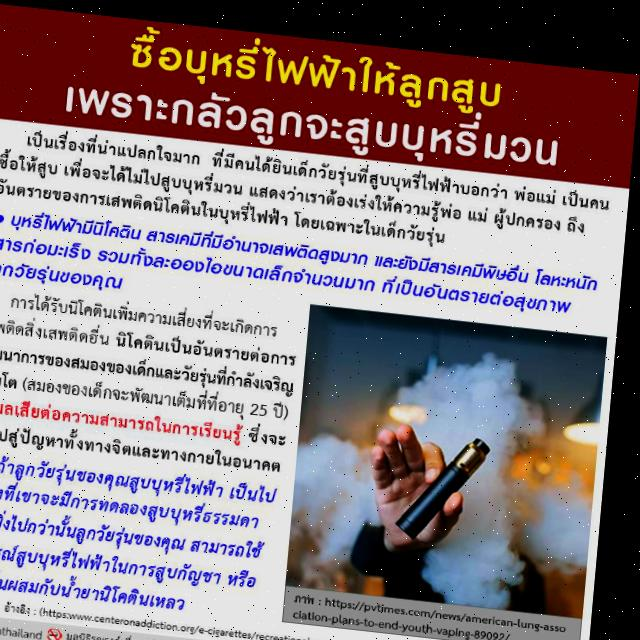vape: (403, 423, 500, 532)
